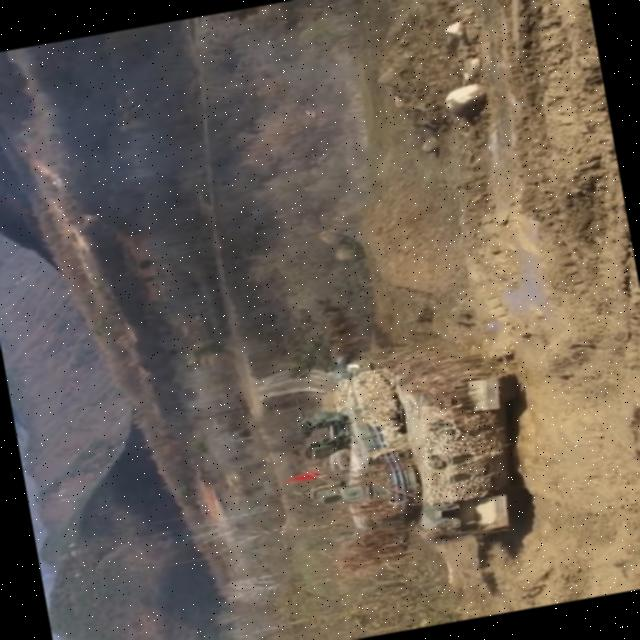korea tank: (258, 276, 548, 582)
